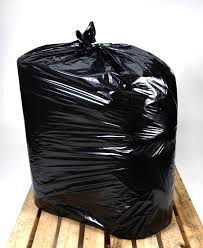Trash: (9, 21, 189, 240)
